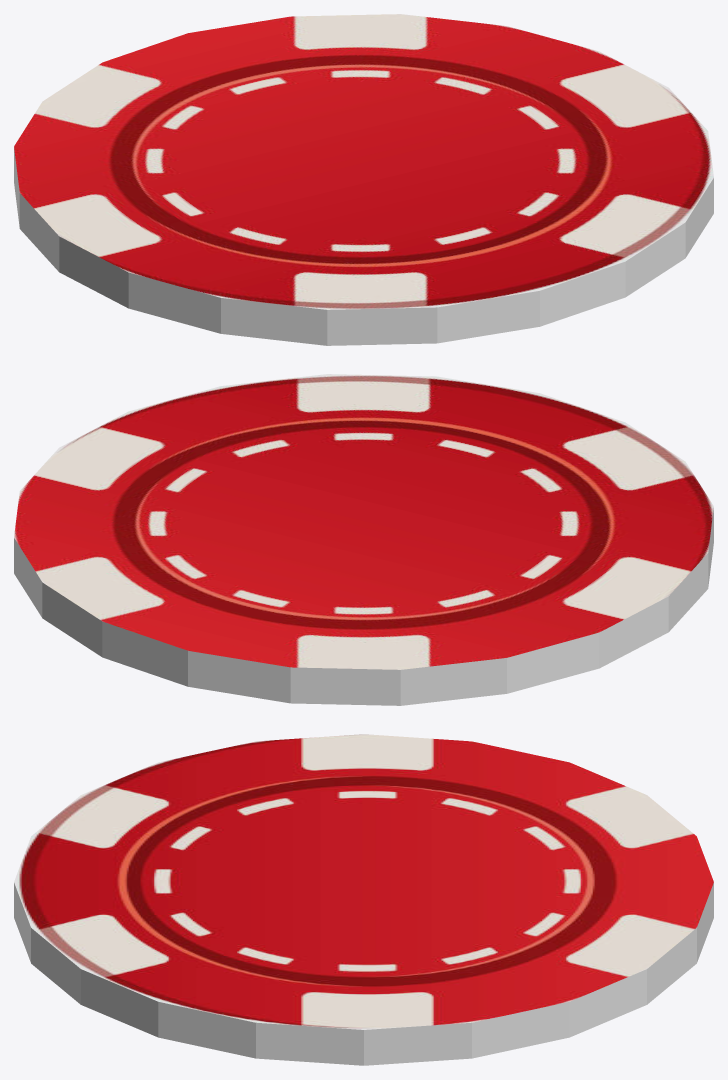
Rendered from RedChipTextured.fbx.
3 views of the same model, one above another, from view 1: azimuth 30°, elevation 25°; view 2: azimuth 150°, elevation 25°; view 3: azimuth 270°, elevation 25° (orthographic).
Parts seen in each view (by area): view 1: Cylinder.001; view 2: Cylinder.001; view 3: Cylinder.001.
Boxes of the visible parts, <box> form: Cylinder.001: <box>14,14,713,345</box>; Cylinder.001: <box>14,374,713,705</box>; Cylinder.001: <box>14,734,713,1065</box>.
Size of the model in its own units: 200 by 11.29 by 200.
1 material, 1 textured.
